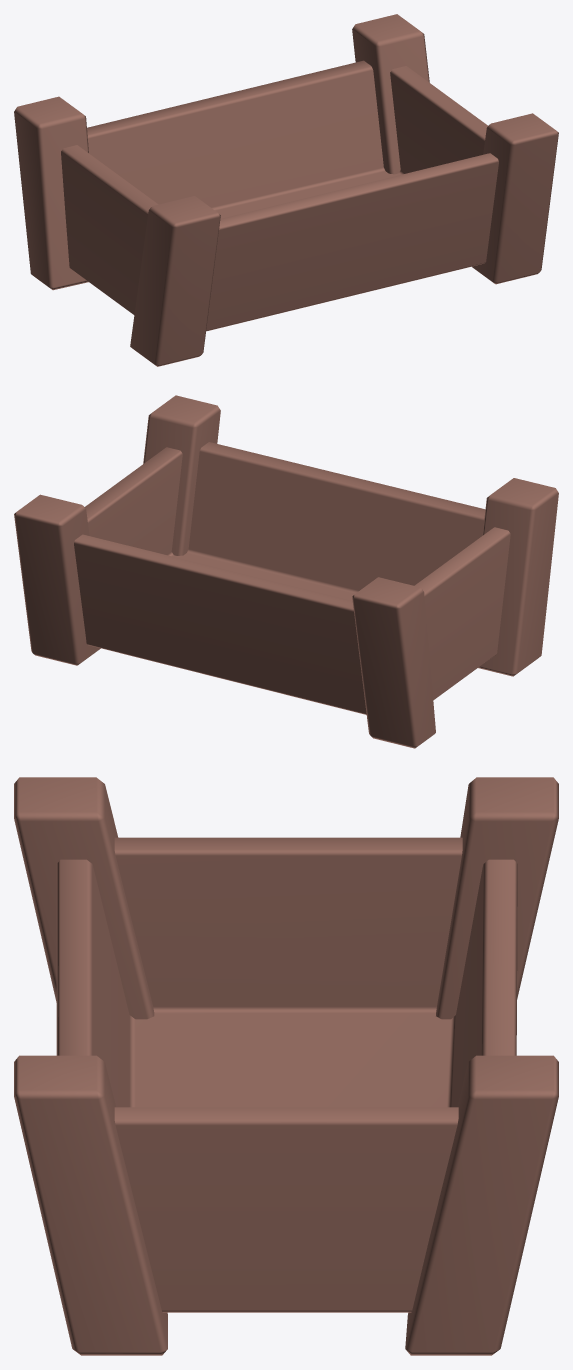
The model's file is Farm_15_Box_1.glb.
The picture shows the model from 3 angles, top to bottom: view 1: azimuth 30°, elevation 25°; view 2: azimuth 150°, elevation 25°; view 3: azimuth 270°, elevation 25°; orthographic projection. The views are drawn at different scales.
Visible parts, largest first — view 1: Farm_15_Box_1; view 2: Farm_15_Box_1; view 3: Farm_15_Box_1.
Boxes of the visible parts, box(x1,y1,x2,y2) form: Farm_15_Box_1: box(14, 14, 558, 366); Farm_15_Box_1: box(14, 395, 558, 748); Farm_15_Box_1: box(14, 777, 558, 1355).
Bounding box in the file's own units: 1.08 × 0.4212 × 0.7835.
1 material, 1 textured.
